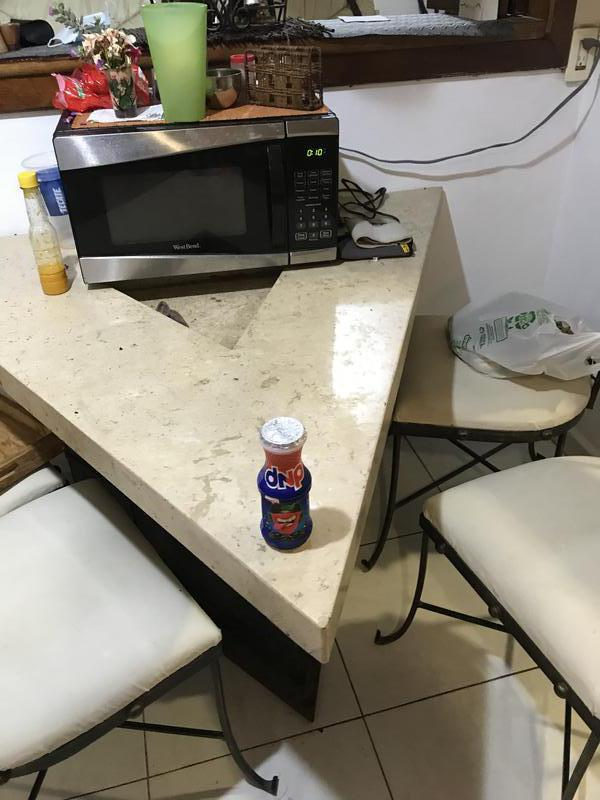danup: (257, 419, 317, 555)
